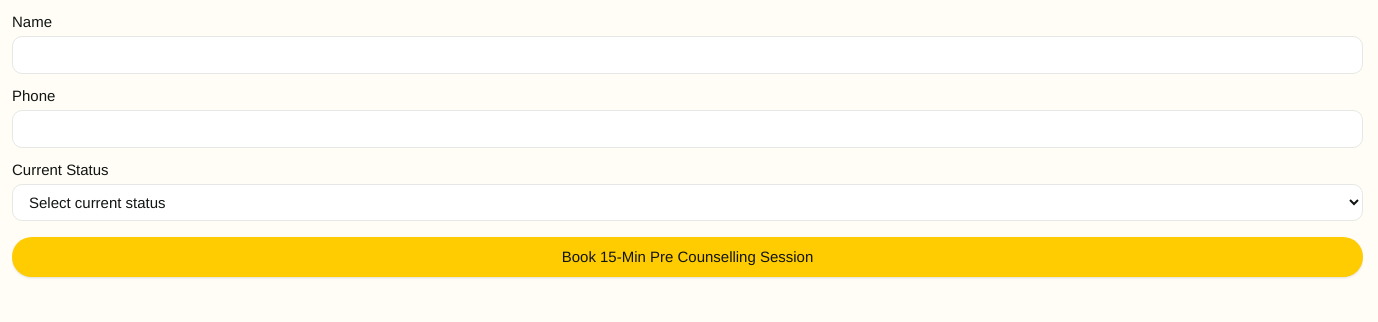
Test: ConsultationForm › rejects an invalid phone number
The image size is (1378, 322).
Type "Aarav Shah" into the field labelled "Name" at (688, 55), box x1=12 y1=36 x2=1363 y2=74
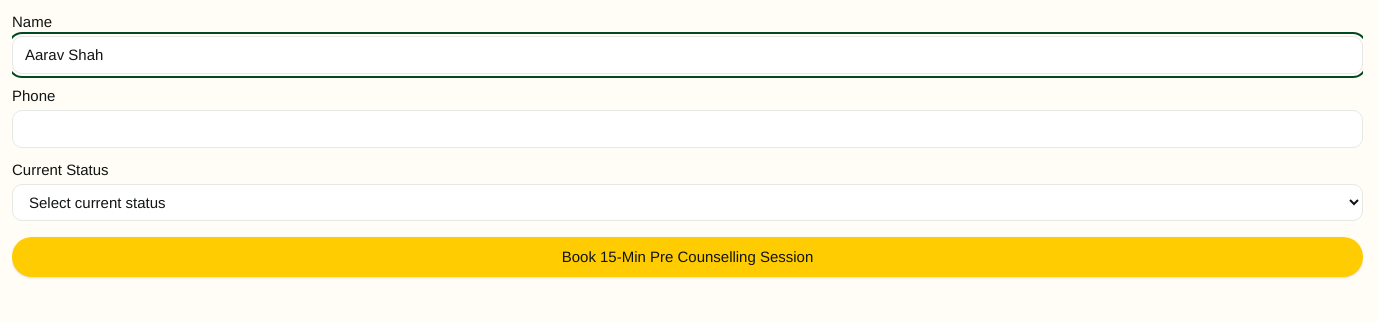
Type "12345" into the field labelled "Phone" at (688, 129), box x1=12 y1=110 x2=1363 y2=148
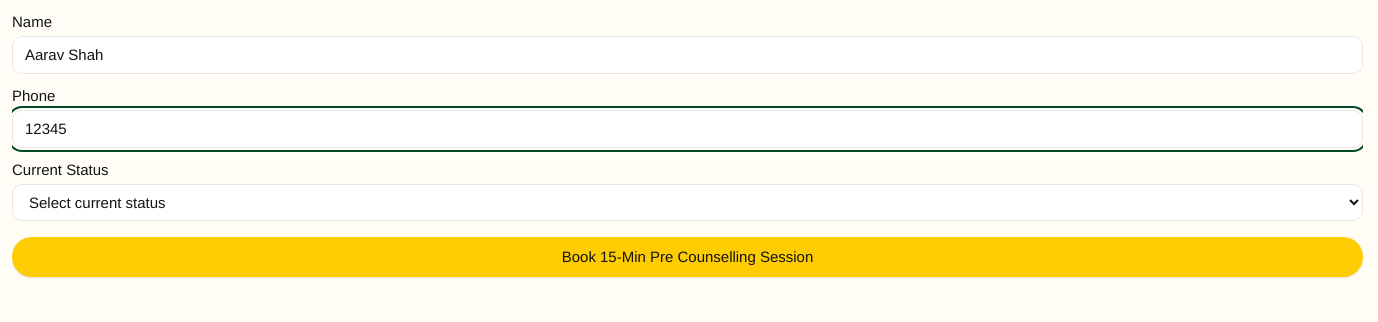
Select "Class 10" in the dropdown labelled "Current Status" at (688, 202), box x1=12 y1=184 x2=1363 y2=221
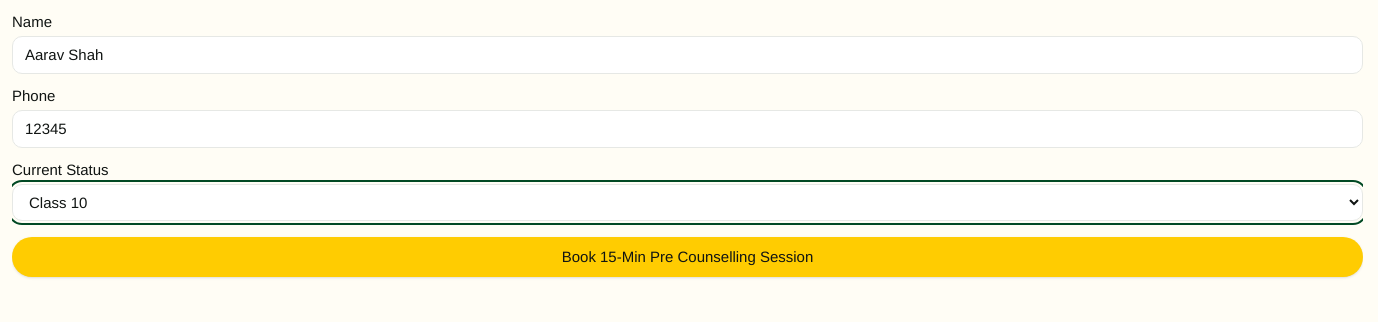
Click the button "Book 15-Min Pre Counselling Session" at (688, 257), box x1=12 y1=237 x2=1363 y2=277
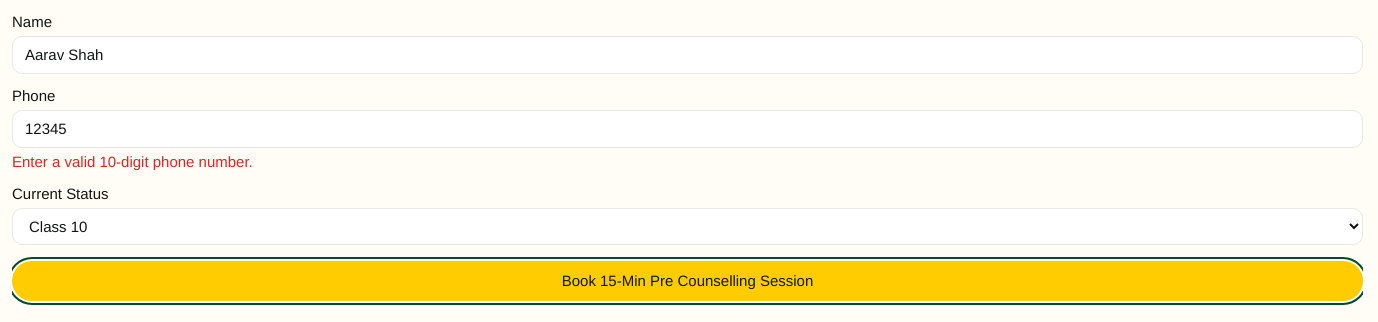
expect the text "Enter a valid 10-digit phone number." is shown: met, box x1=12 y1=153 x2=253 y2=170
